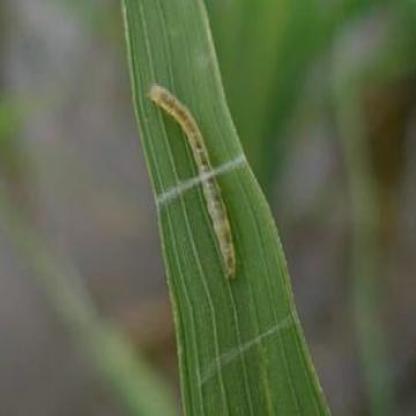leaf-folder: (141, 74, 244, 296)
